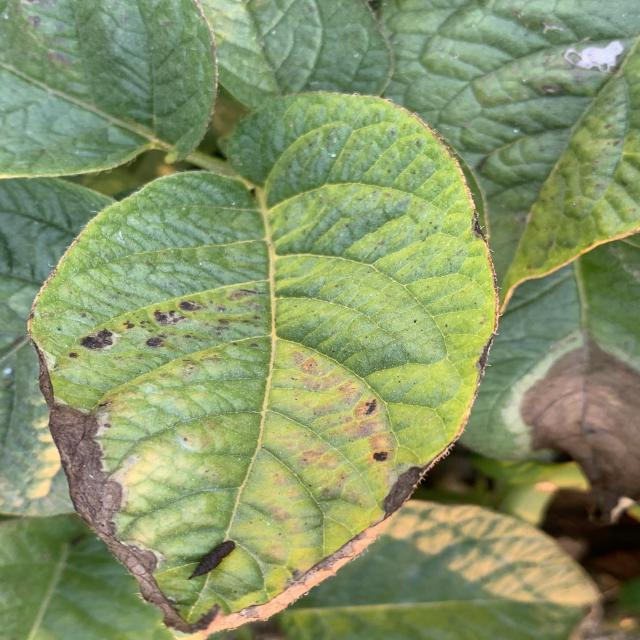lateblight: (40, 355, 200, 632), (182, 510, 393, 640), (393, 469, 423, 509)
